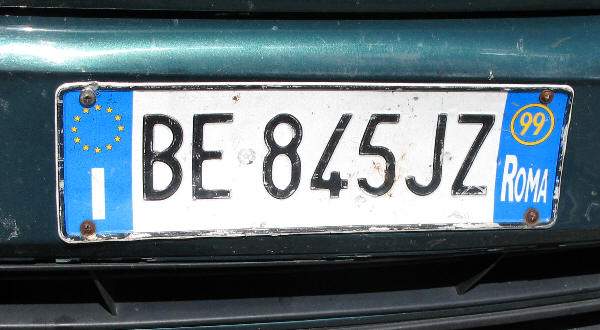license_plate: (53, 82, 575, 243)
